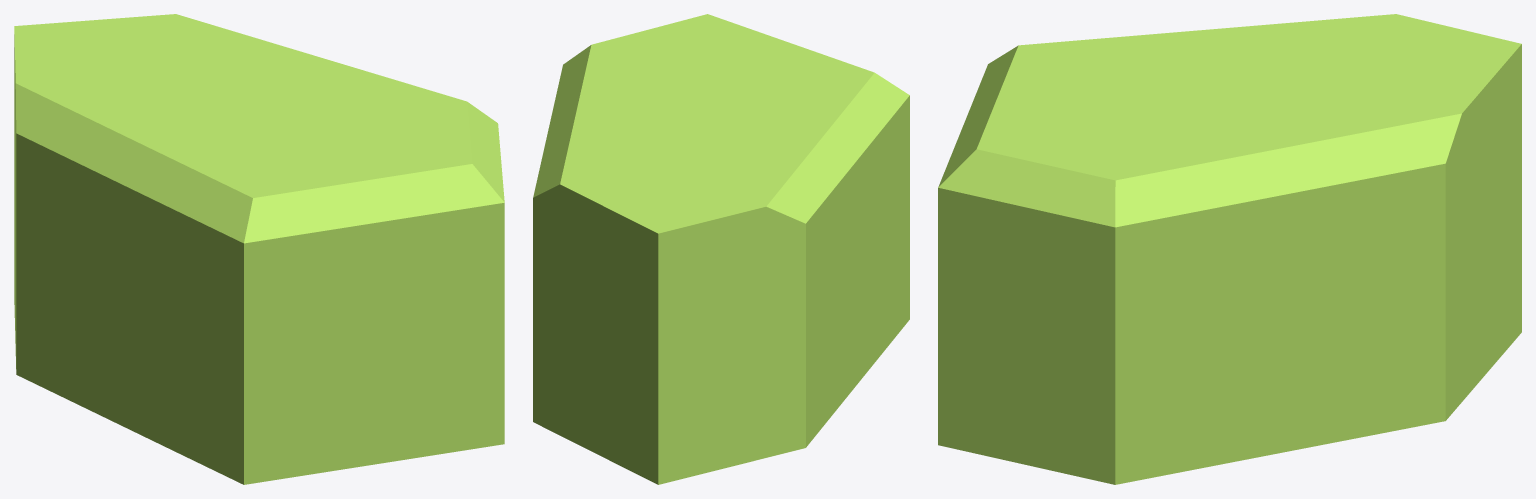
Rendered from rock_6.fbx.
The picture shows the model from 3 angles, left to right: view 1: azimuth 30°, elevation 25°; view 2: azimuth 150°, elevation 25°; view 3: azimuth 270°, elevation 25°; orthographic projection. The views are drawn at different scales.
Parts seen in each view (by area): view 1: rock_6; view 2: rock_6; view 3: rock_6.
Boxes of the visible parts, x1,y1,x2,y2 form: rock_6: (14, 14, 504, 484); rock_6: (533, 14, 909, 484); rock_6: (938, 14, 1521, 484).
Size of the model in its own units: 56.06 by 39.01 by 71.52.
